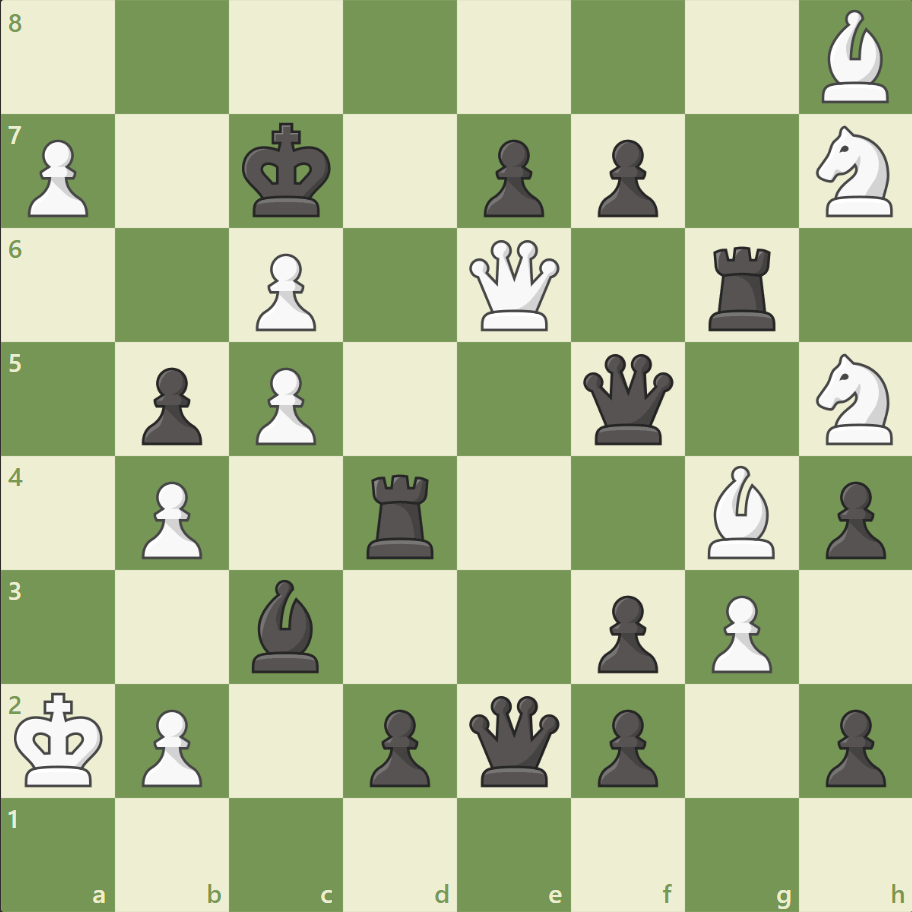B: (812, 6, 896, 109), (698, 460, 782, 563)
K: (11, 685, 111, 793)
N: (806, 121, 903, 223), (806, 348, 903, 450)
P: (20, 132, 95, 223), (247, 246, 322, 337), (247, 359, 322, 450), (133, 473, 208, 564), (701, 586, 776, 677), (133, 700, 208, 791)
Q: (464, 236, 563, 335)
b: (244, 574, 328, 676)
k: (238, 117, 338, 225)
p: (474, 132, 549, 223), (133, 359, 208, 450), (588, 132, 662, 223), (815, 473, 889, 564), (588, 586, 662, 677), (361, 700, 435, 791), (588, 700, 662, 791), (815, 700, 889, 791)
q: (578, 349, 677, 449), (464, 690, 563, 789)
r: (700, 239, 783, 336), (360, 466, 442, 563)
